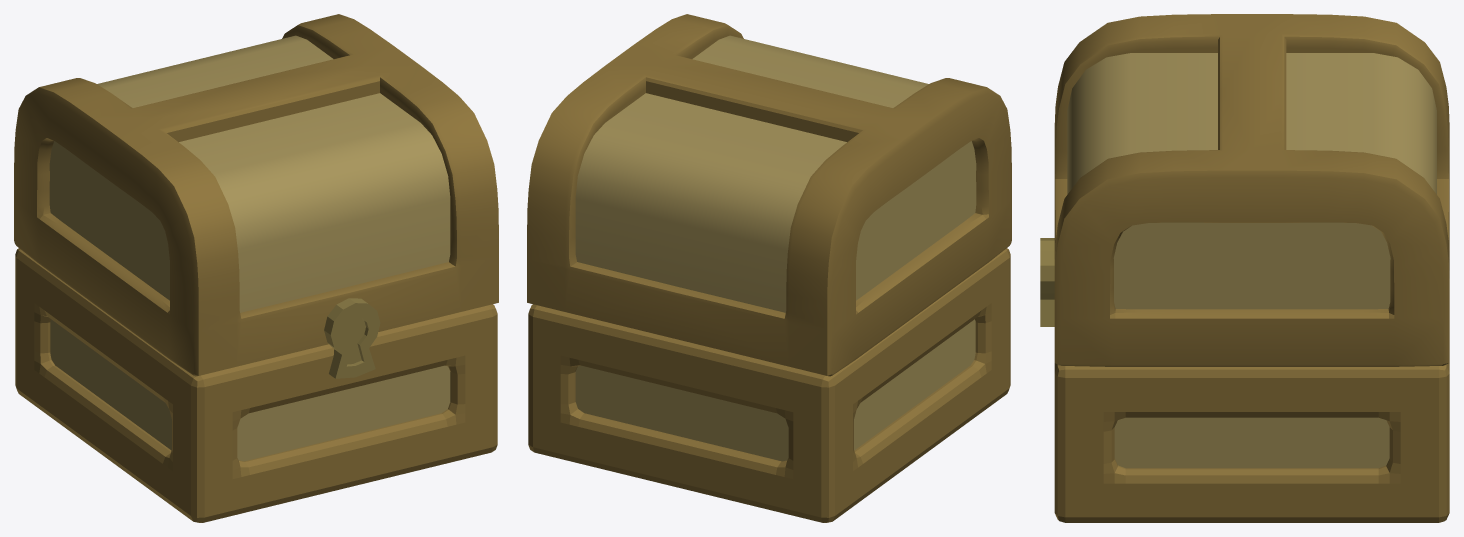
Rendered from Chest_Closed.glb.
3 renders of one model, left to right at view 1: azimuth 30°, elevation 25°; view 2: azimuth 150°, elevation 25°; view 3: azimuth 270°, elevation 25°, orthographic. The views are drawn at different scales.
Parts seen in each view (by area): view 1: Chest_Closed; view 2: Chest_Closed; view 3: Chest_Closed.
Boxes of the visible parts, left/top/right/bottom form: Chest_Closed: left=14, top=14, right=498, bottom=522; Chest_Closed: left=527, top=14, right=1011, bottom=522; Chest_Closed: left=1040, top=14, right=1449, bottom=522.
Size of the model in its own units: 1.84 by 1.91 by 1.99.
Materials: 1 (1 with a texture image).
